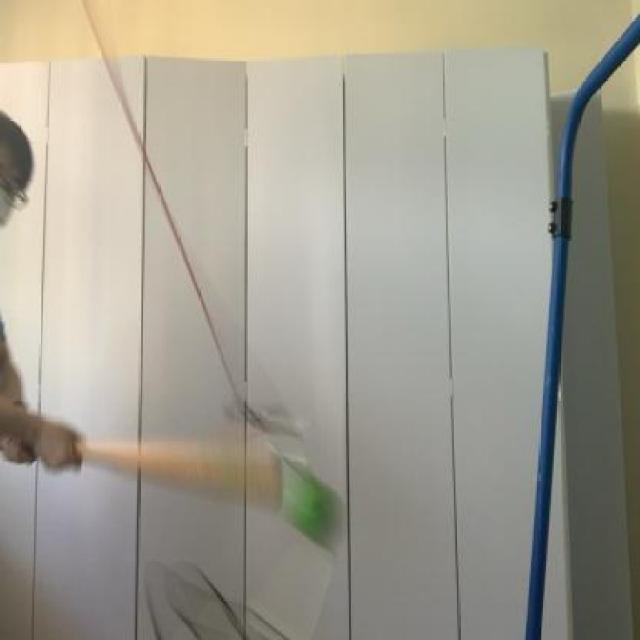baseball: (278, 451, 344, 554)
